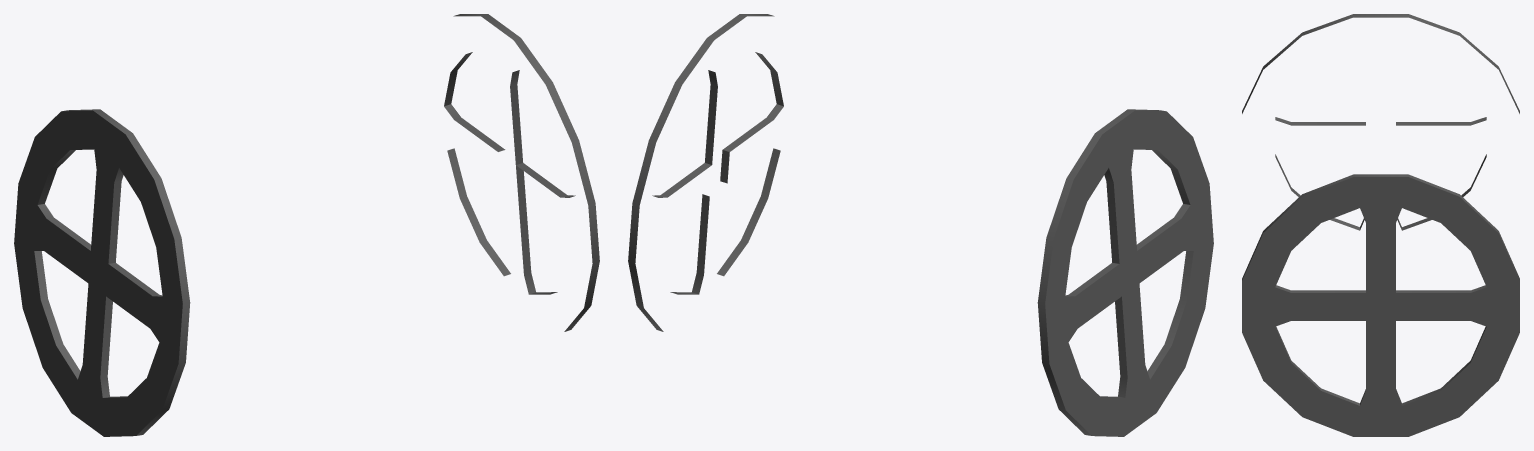
Rendered from symbol.glb.
3 views of the same model, side by side, from view 1: azimuth 30°, elevation 25°; view 2: azimuth 150°, elevation 25°; view 3: azimuth 270°, elevation 25° (orthographic). The views are drawn at different scales.
Parts seen in each view (by area): view 1: symbol; view 2: symbol; view 3: symbol.
Part boxes in pixels (x1,y1,x2,y2): symbol: (14, 14, 599, 436); symbol: (628, 14, 1213, 436); symbol: (1242, 14, 1519, 436).
Size of the model in its own units: 0.7669 by 0.4976 by 0.4981.
Materials: 1 (1 with a texture image).
